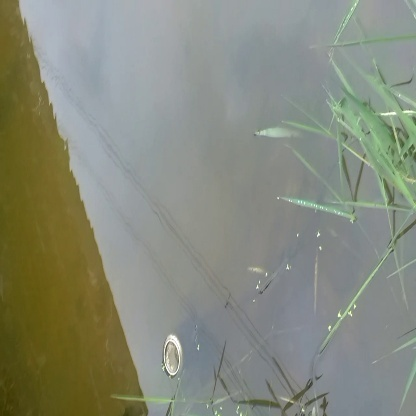bottle: (160, 331, 186, 378)
